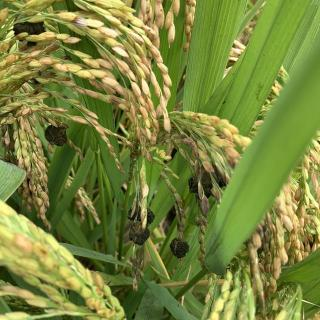Gosong-Palsu: (187, 167, 229, 198), (126, 203, 157, 243), (12, 20, 48, 48), (43, 122, 71, 148), (168, 235, 190, 259)
